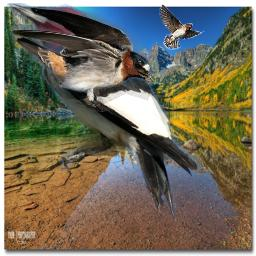Swallow: (12, 7, 152, 112), (159, 3, 205, 50)
Woodpecker: (5, 3, 205, 221)
